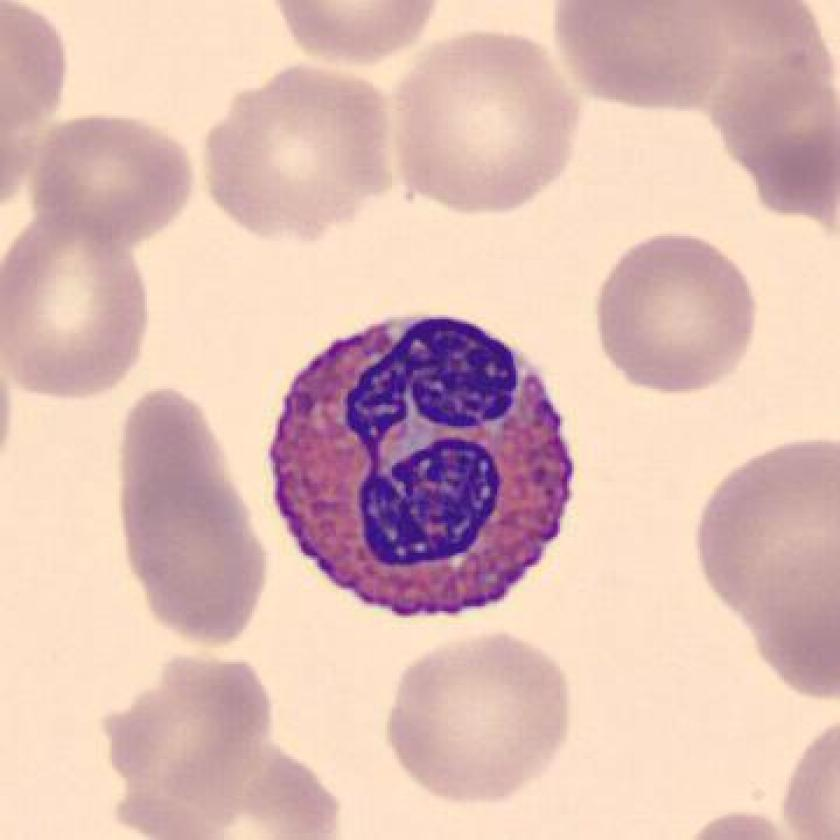eosinophil: (258, 293, 582, 633)
